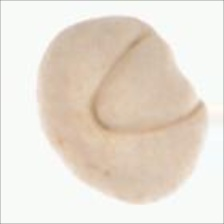L5: (87, 31, 206, 138)
L6: (33, 13, 209, 207)
